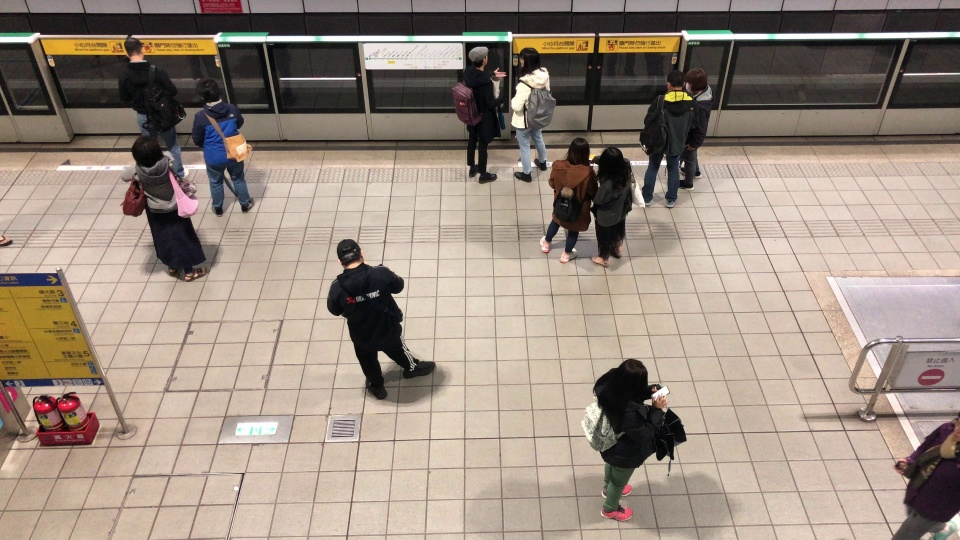person_head: (615, 357, 649, 400), (597, 146, 625, 194), (133, 134, 160, 171), (337, 238, 364, 269), (563, 137, 590, 166), (520, 47, 543, 78), (122, 37, 144, 65), (685, 67, 707, 93), (201, 79, 222, 106), (468, 47, 491, 69), (666, 69, 683, 92)
person_vbox: (327, 240, 435, 400), (120, 133, 208, 286), (594, 357, 670, 521), (117, 37, 189, 182), (888, 409, 960, 540), (192, 79, 257, 216), (640, 68, 693, 207), (539, 138, 591, 261), (463, 46, 507, 184), (512, 47, 550, 183), (592, 143, 631, 267), (679, 66, 714, 191)
